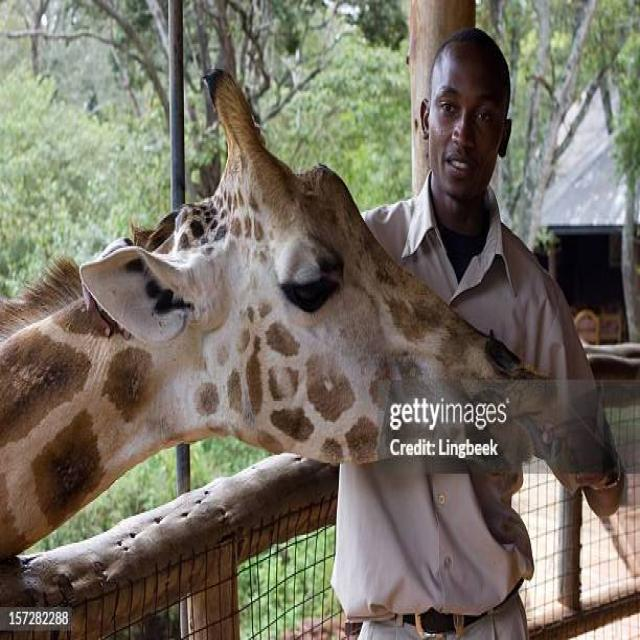girafee: (15, 112, 566, 559)
ranger: (352, 0, 573, 624)
